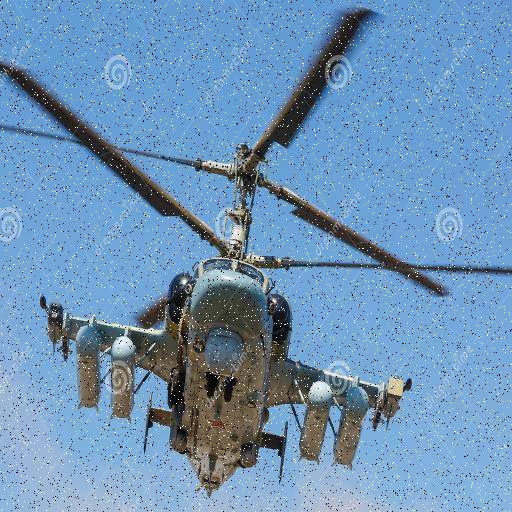helicopter: (1, 4, 507, 504)
